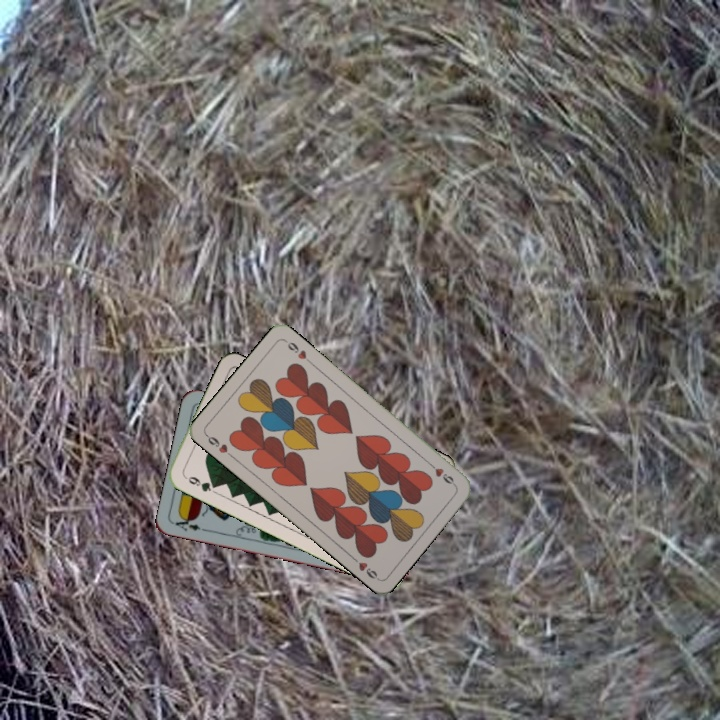EA: (171, 513, 210, 534)
G9: (180, 471, 220, 494)
H9: (424, 458, 458, 489), (202, 430, 236, 460)
